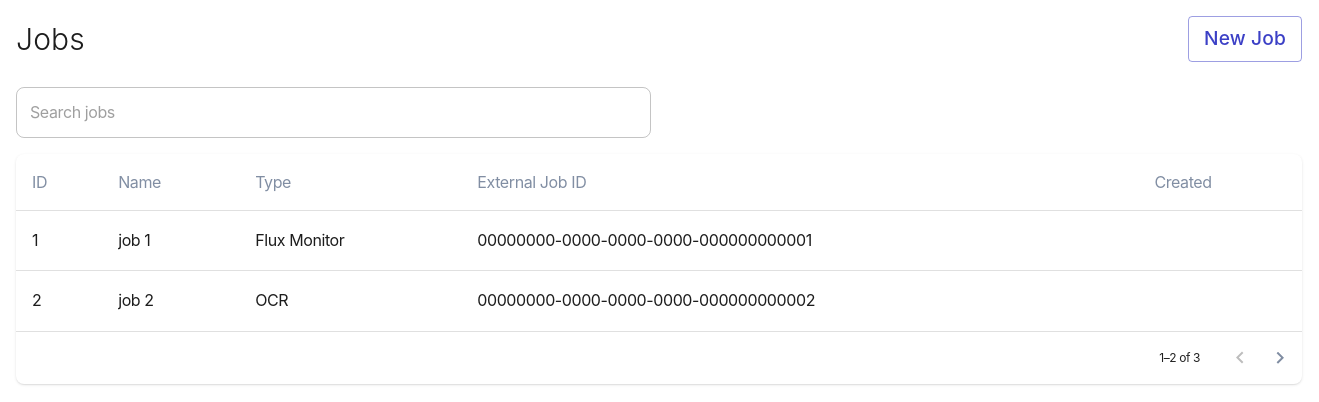
Test: JobsScreen › can page through the list of jobs
Check: the text "job 1" is shown, box [102,210,239,271]
Check: the text "job 2" is shown, box [102,271,239,331]
Click the button named "next-page".
click(1280, 358)  # box [1260,338,1300,378]
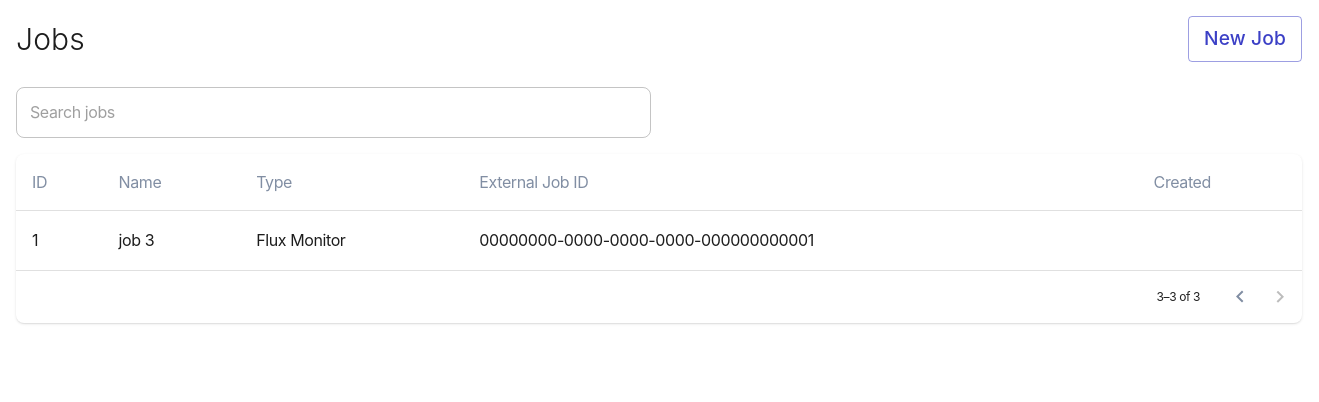
Check: the text "job 3" is shown, box [103,210,240,271]
Check: the text "3–3 of 3" is shown, box [1157,287,1200,308]
Check: the button named "next-page" is disabled, box [1260,277,1300,317]
Click the button named "prev-page".
click(1240, 297)  # box [1220,277,1260,317]
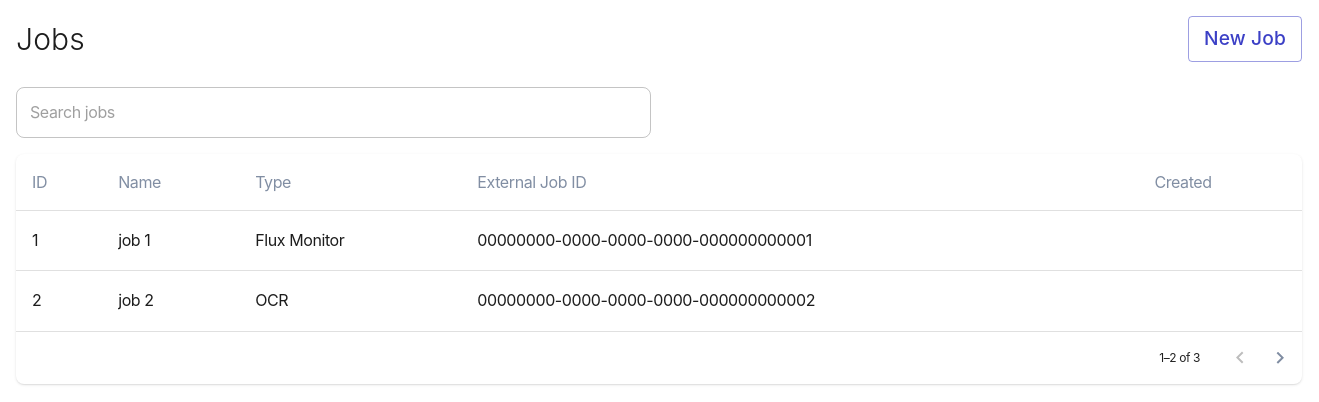
Check: the text "job 1" is shown, box [102,210,239,271]
Check: the text "job 2" is shown, box [102,271,239,331]
Check: the text "1–2 of 3" is shown, box [1159,348,1200,368]
